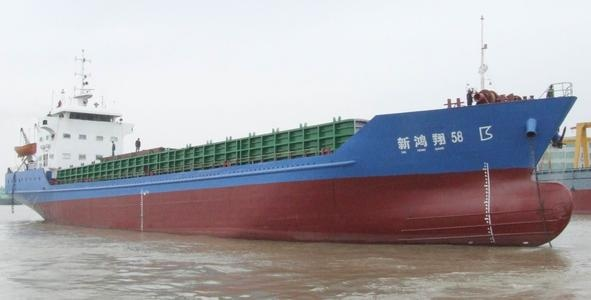Cargoship: (8, 42, 585, 255)
